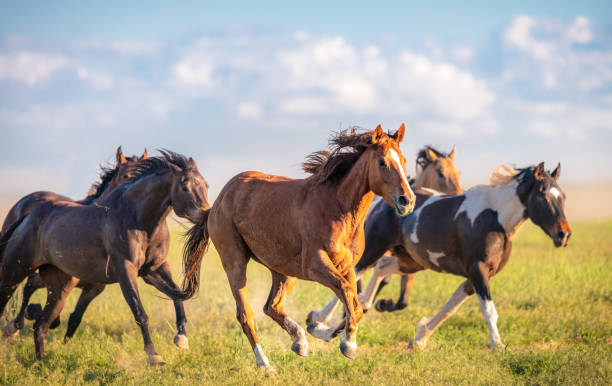Horse: (173, 112, 592, 379), (2, 133, 220, 374)
